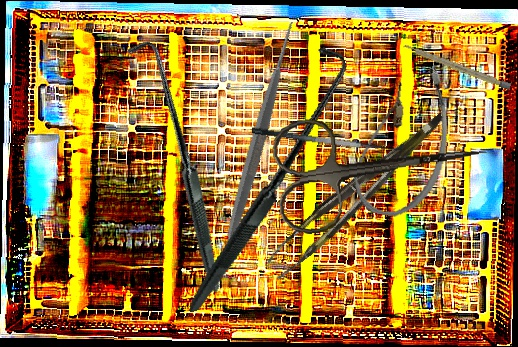Cannula: (347, 57, 460, 224)
Hook Surgical: (124, 42, 405, 313), (49, 35, 303, 293)
Iris Scissors: (269, 97, 494, 237)
Scalpel Handle: (401, 42, 512, 91)
Spatula Surgical: (115, 15, 392, 294), (251, 114, 405, 159)
Tissue Forceps: (256, 113, 462, 280)
